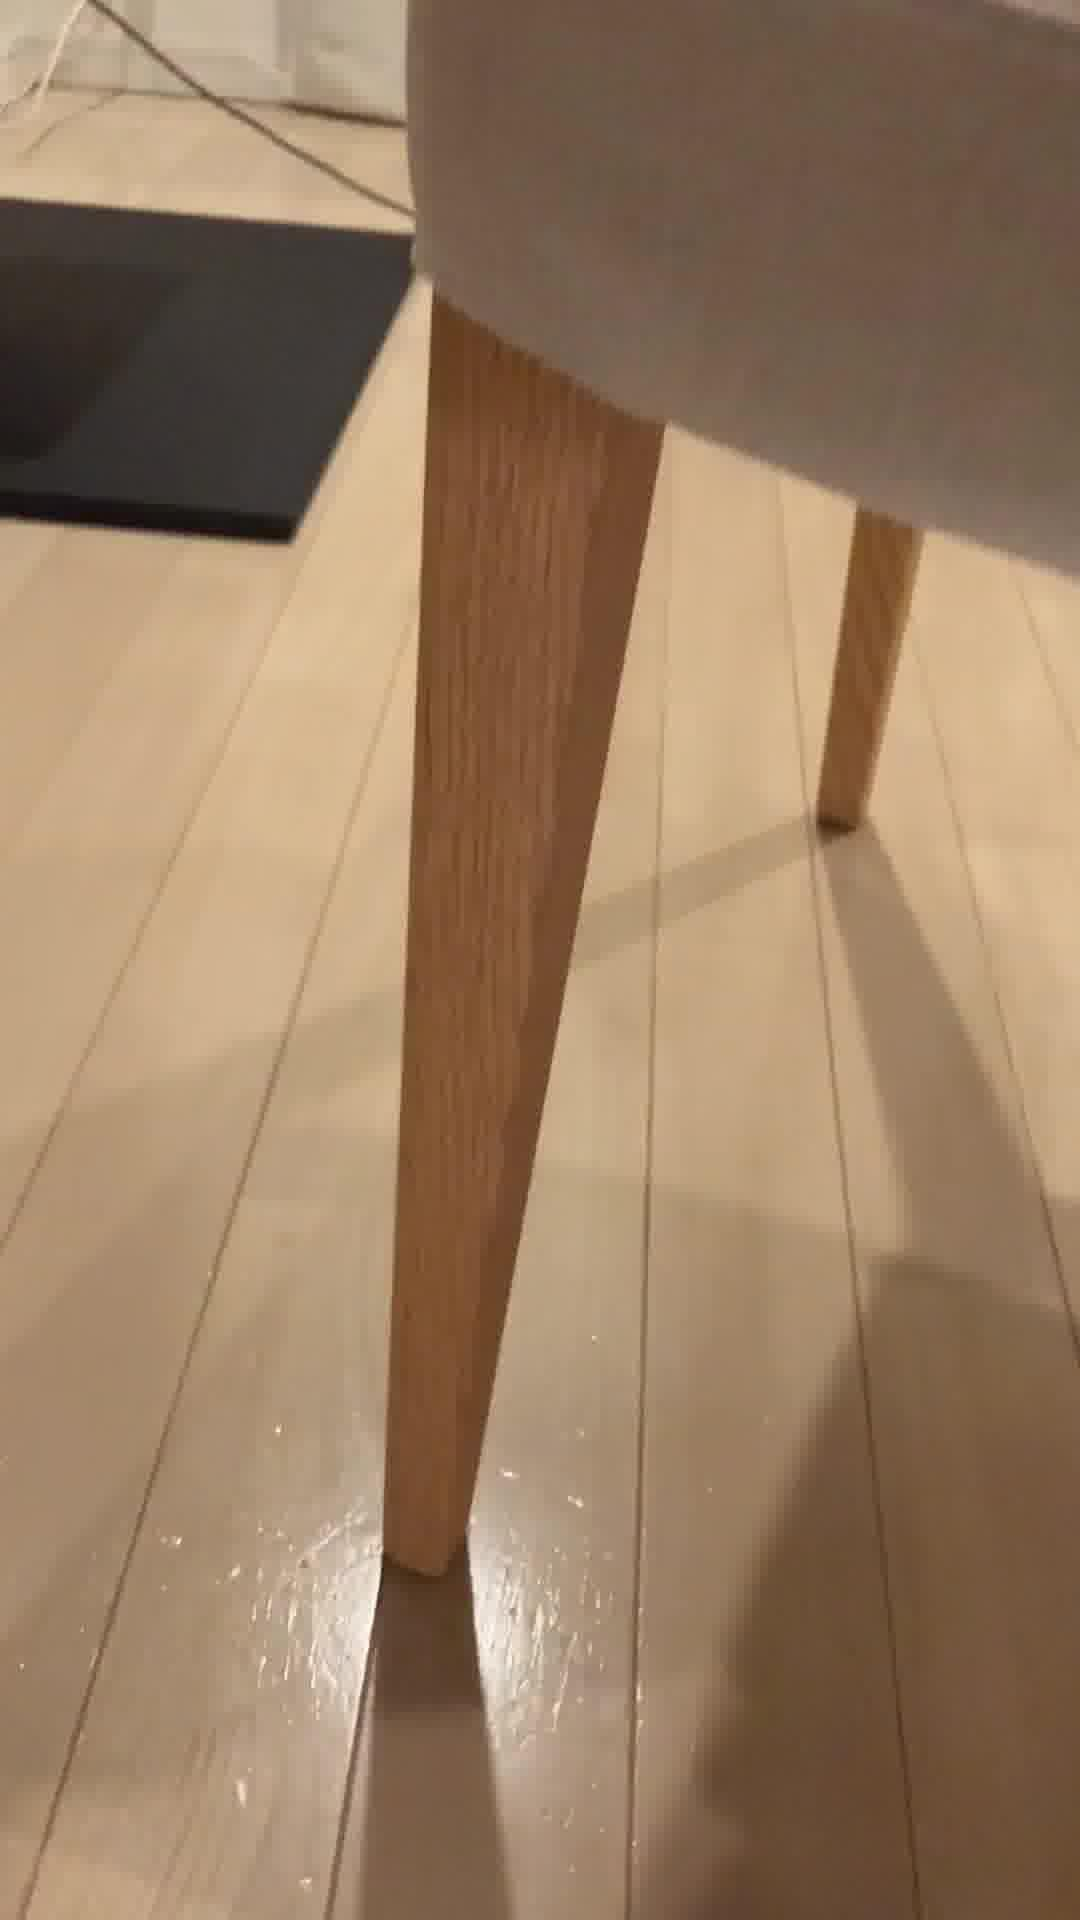takumikan-chair: (378, 0, 1080, 1576)
